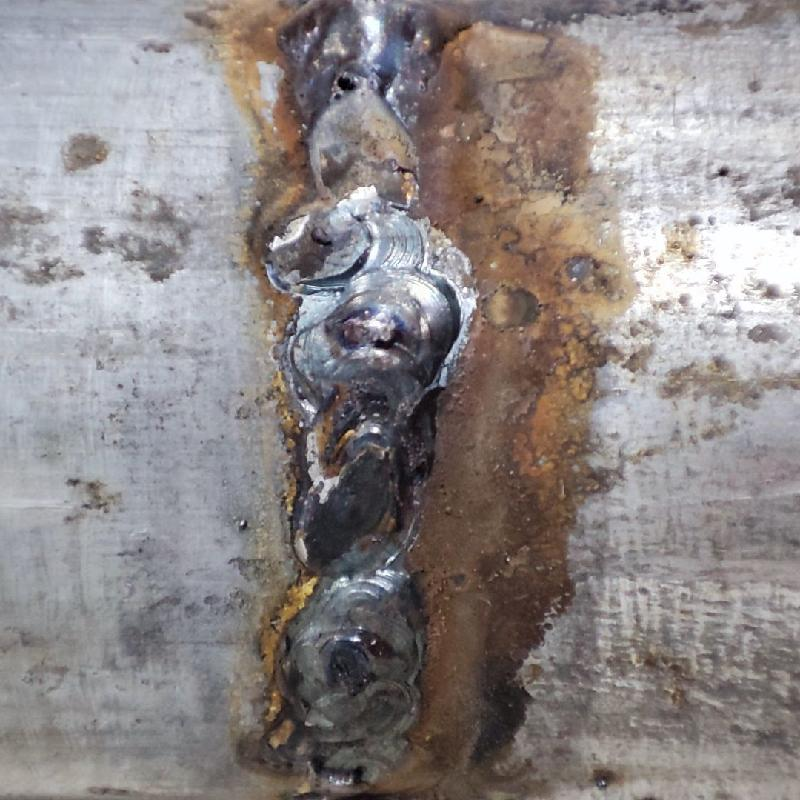Not_fully_soldered: (280, 75, 435, 267)
Surface_pores: (313, 59, 370, 110)
Weld: (268, 6, 443, 106)
wrong_size: (276, 268, 464, 740)
